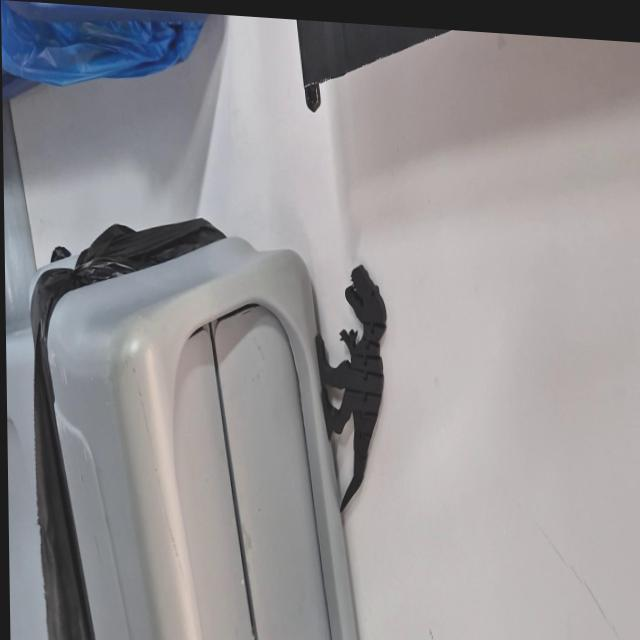dino: (312, 260, 390, 517)
